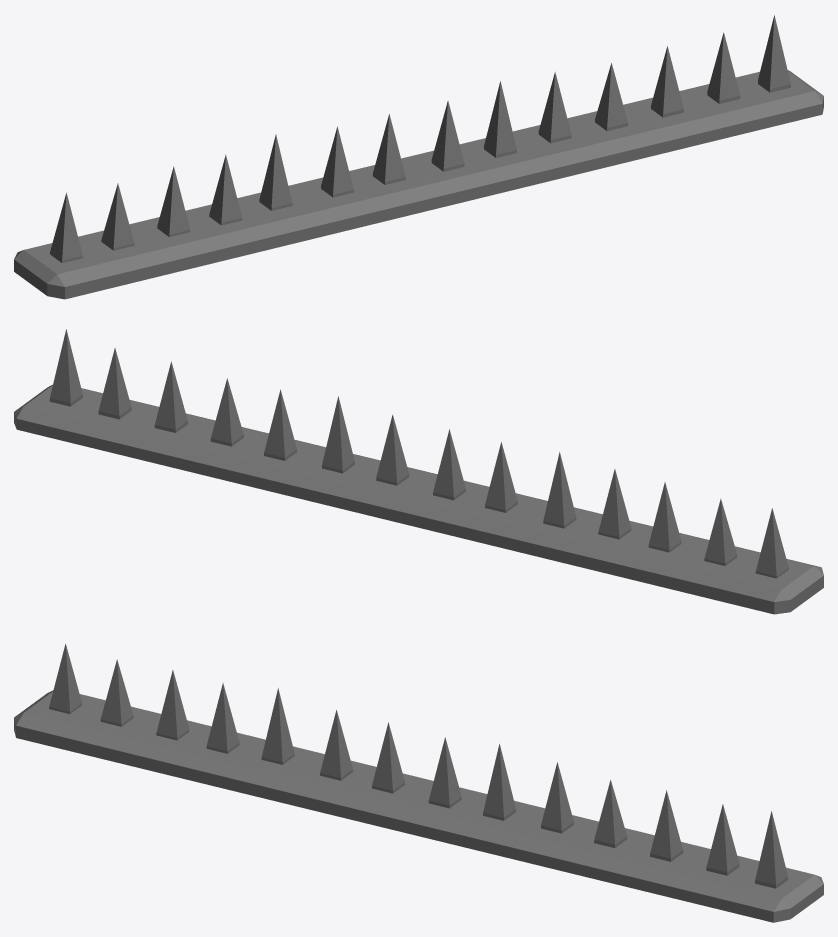
Rendered from MEDStoneSpikeTrap.fbx.
3 renders of one model, top to bottom at view 1: azimuth 30°, elevation 25°; view 2: azimuth 150°, elevation 25°; view 3: azimuth 330°, elevation 25°, orthographic.
Visible parts, largest first — view 1: MEDStoneSpikeTrap; view 2: MEDStoneSpikeTrap; view 3: MEDStoneSpikeTrap.
Part boxes in pixels (x1,y1,x2,y2): MEDStoneSpikeTrap: (14, 15, 823, 299); MEDStoneSpikeTrap: (14, 329, 823, 614); MEDStoneSpikeTrap: (14, 643, 823, 922).
Size of the model in its own units: 142 by 15.63 by 15.07.
